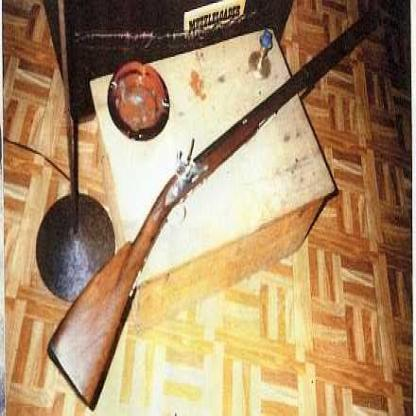Heavy Gun: (48, 10, 380, 409)
